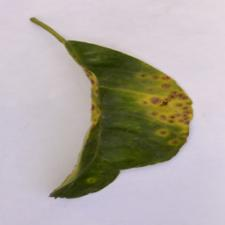Canker: (66, 41, 193, 184)
